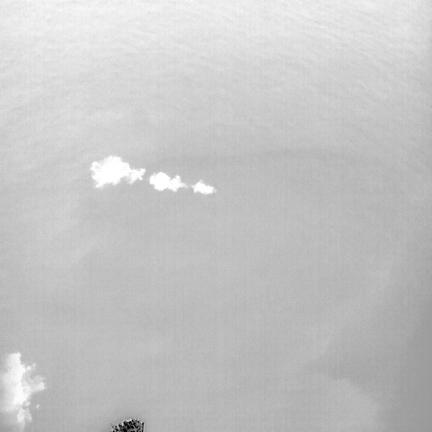flukeprints: (90, 156, 131, 186), (149, 172, 186, 191), (193, 181, 215, 194), (128, 169, 145, 183)
